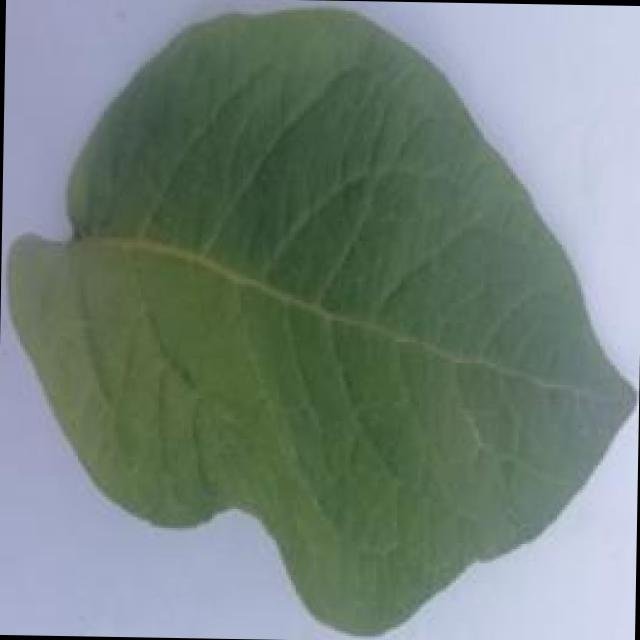Potato_Healthy: (5, 2, 630, 639)
